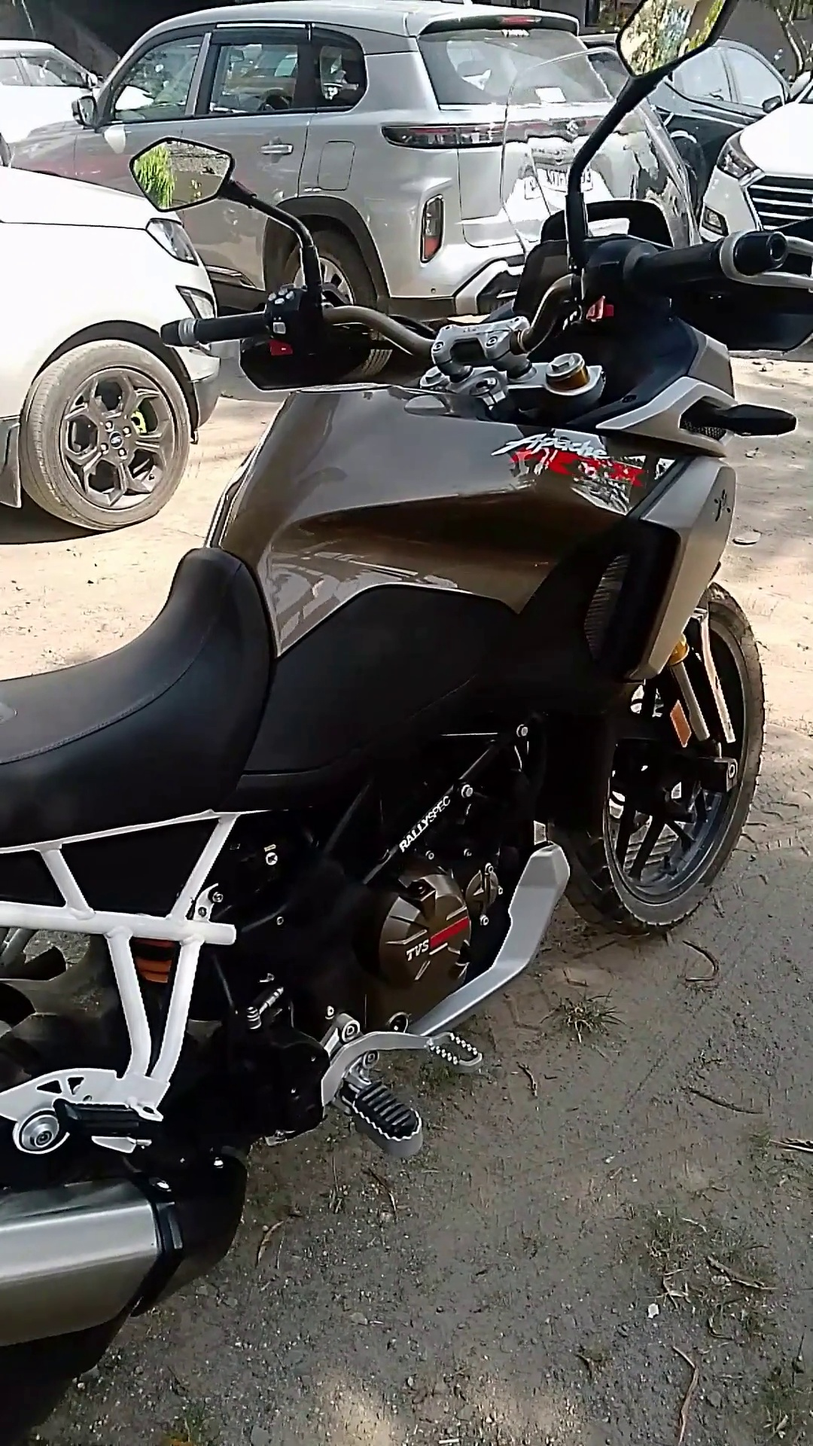bike-engine: (374, 839, 510, 1034)
bike-engine-level: (386, 1009, 412, 1035)
bike-oil-cap: (444, 955, 474, 980)
